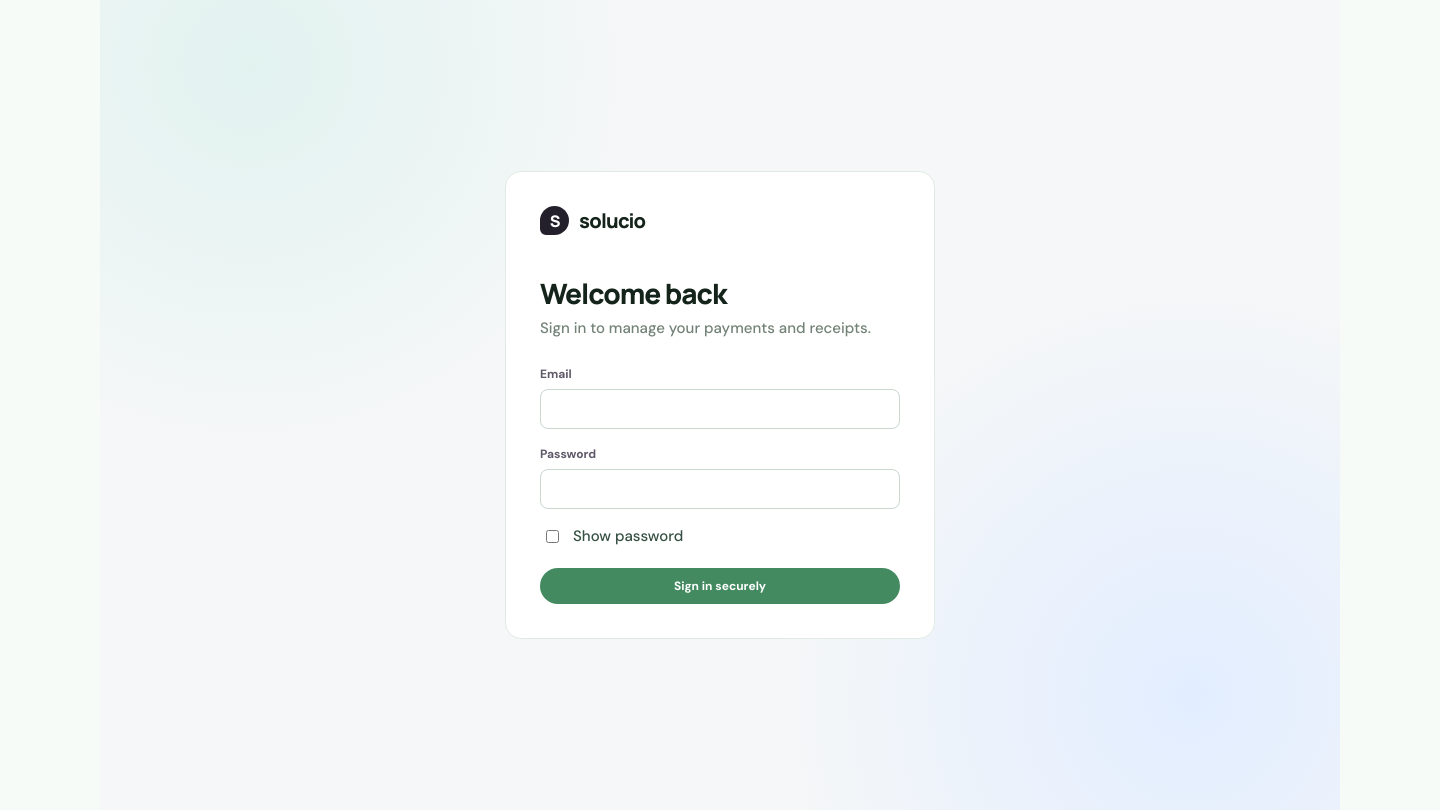
it: password is hidden by default and can be revealed and hidden again
This screenshot has width=1440, height=810.
Step 1. Type "secret123" into the password field labelled "Password" → [720, 489], box [540,469,900,509]
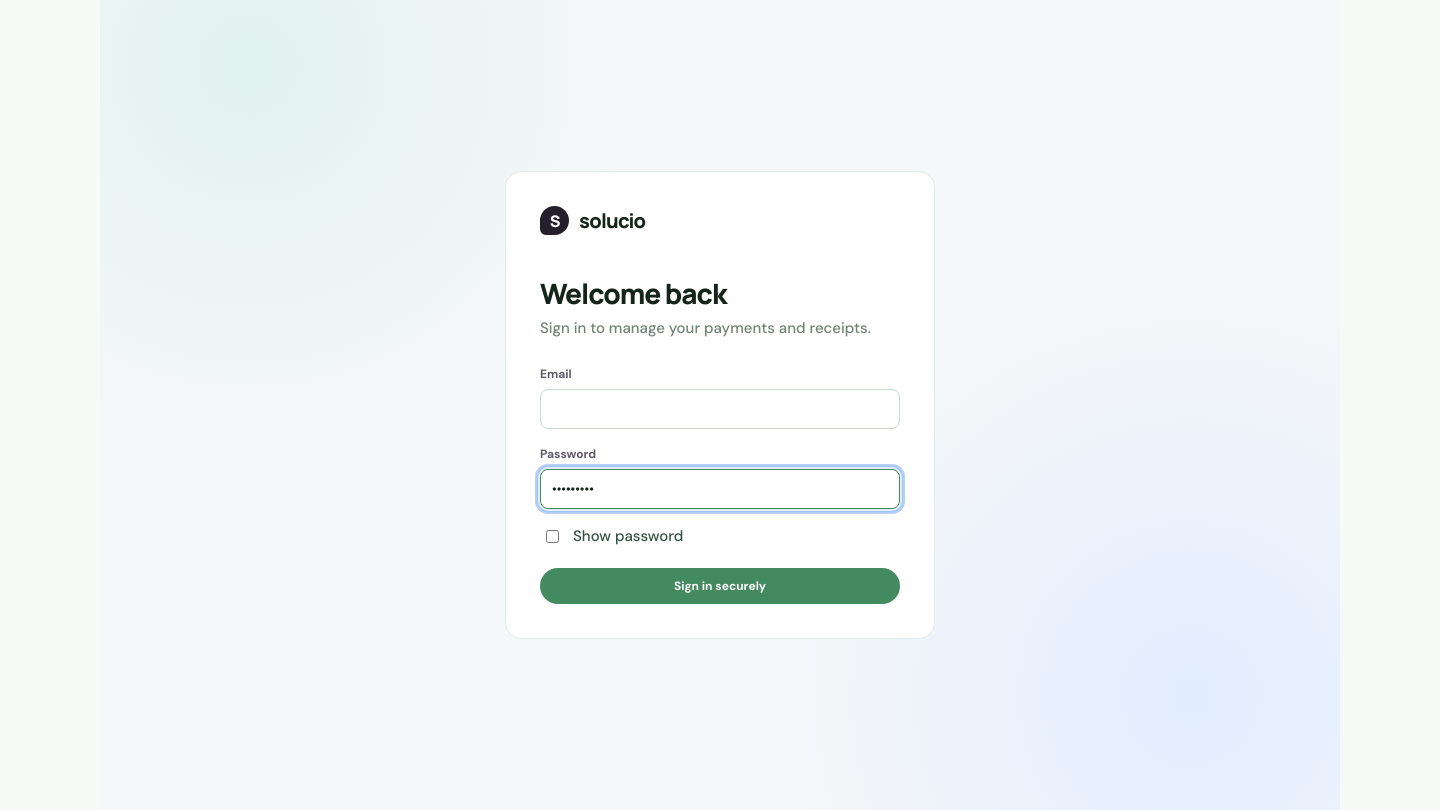
Step 2. Click the checkbox labelled "Show password" → [552, 536], box [544,530,561,543]
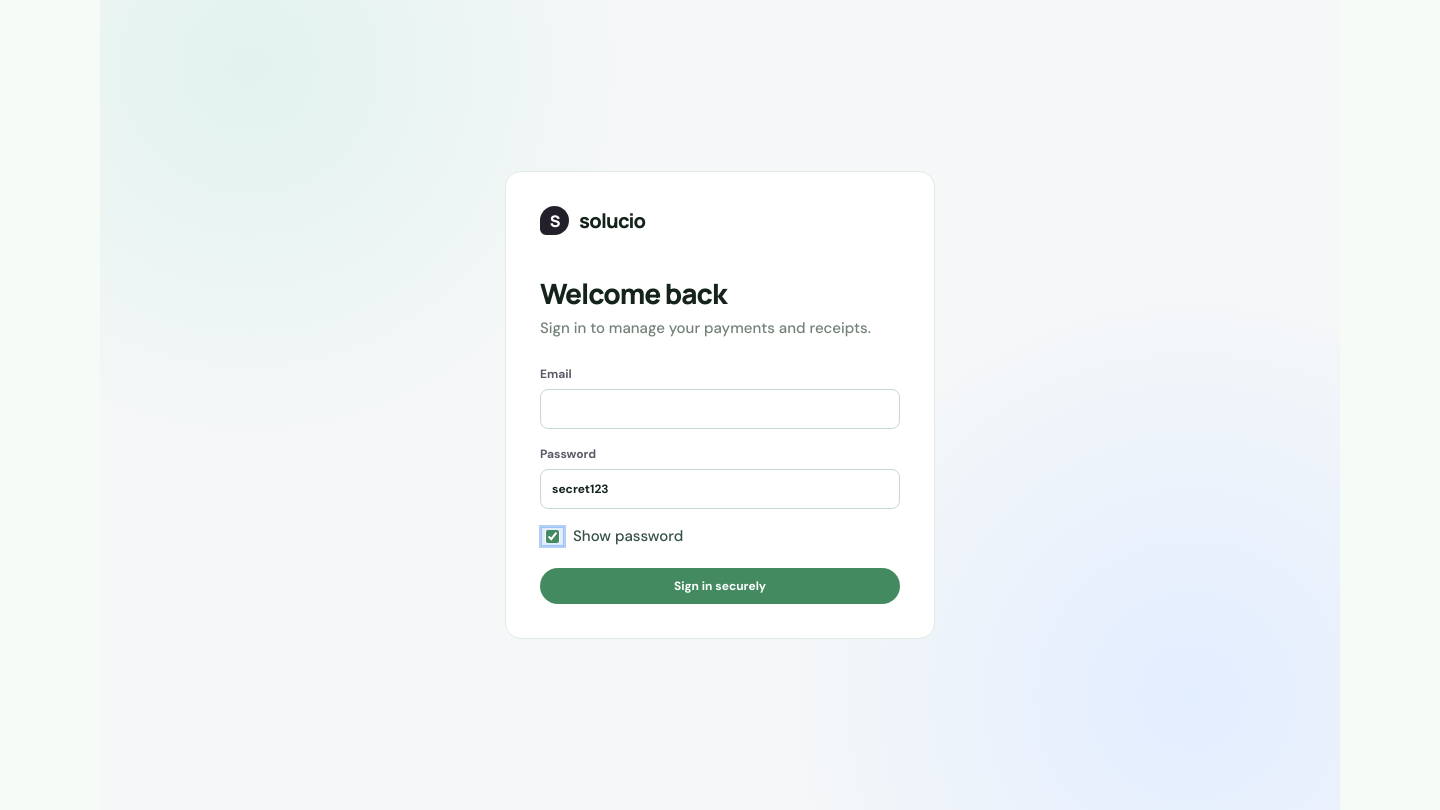
Check: the field labelled "Password" shows its text, box [540,469,900,509]
Step 3. Click the checkbox labelled "Show password" → [552, 536], box [544,530,561,543]
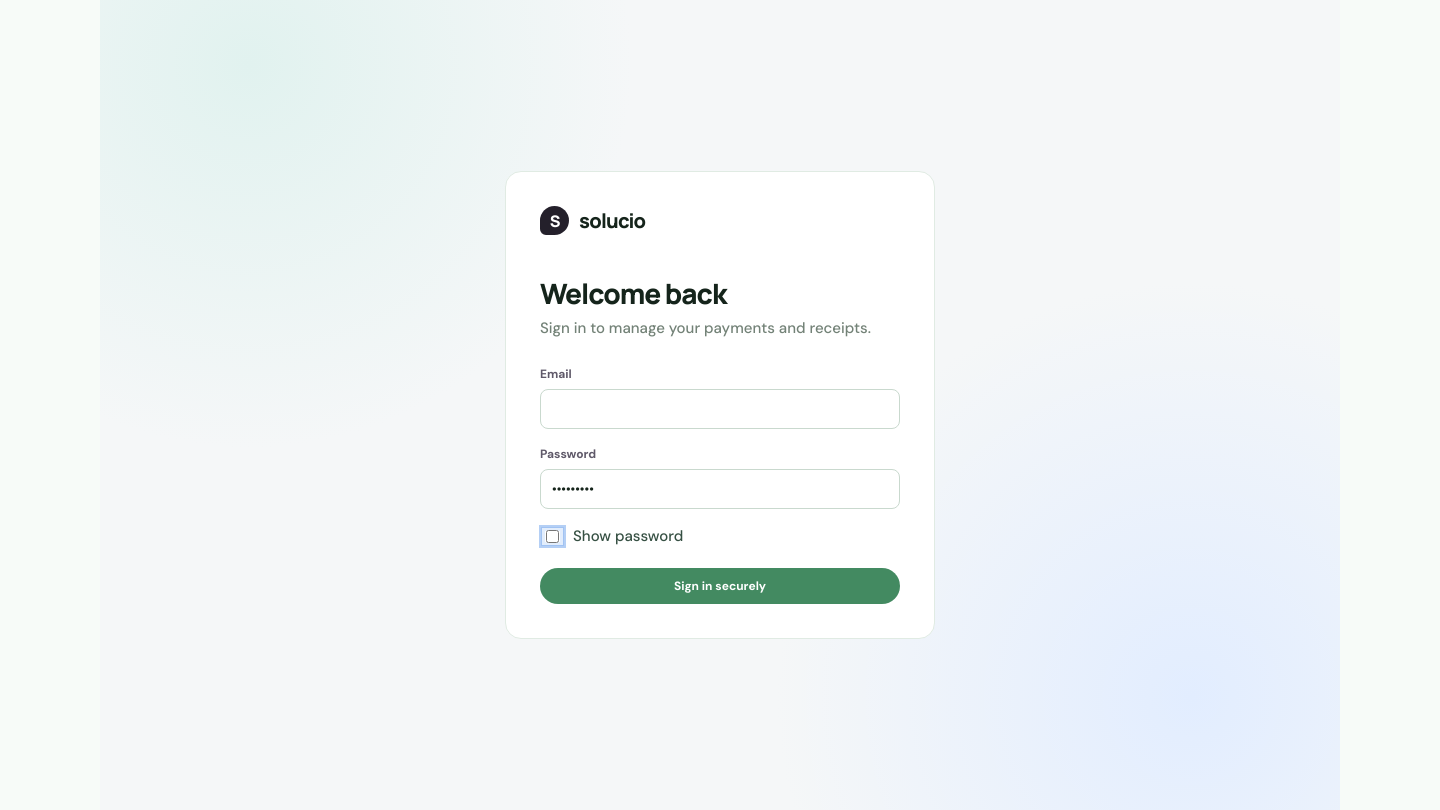
Check: the password field labelled "Password" hides its text, box [540,469,900,509]
